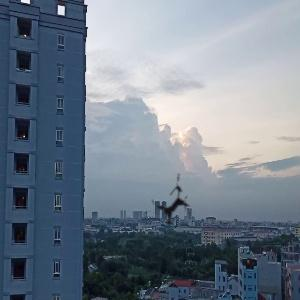drone: (129, 160, 219, 250)
